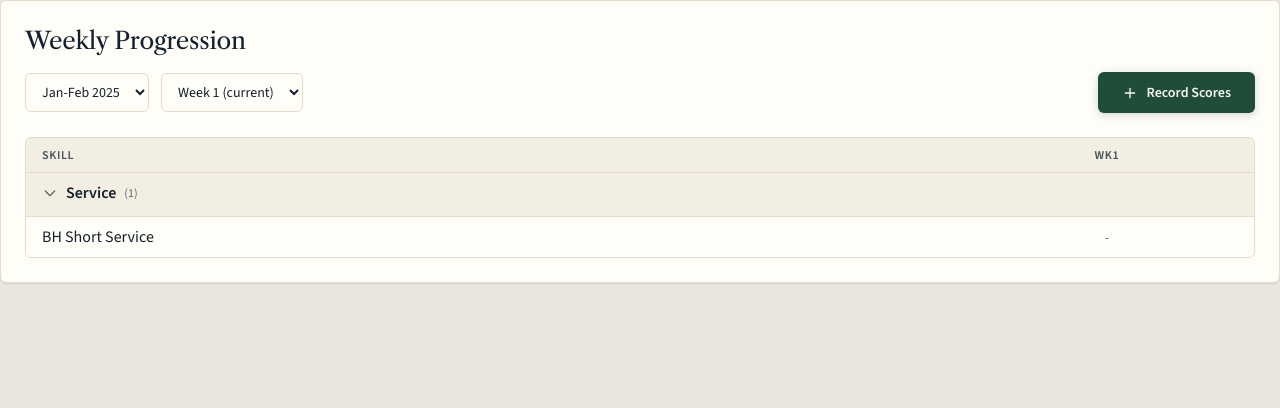
Test: SkillProgressionTracker › navigates back to heatmap when cancel is clicked in recording view
The width and height of the screenshot is (1280, 408).
Go to recording
Click the button with test id "record-scores-button": (1177, 93) left=1098, top=72, right=1255, bottom=113
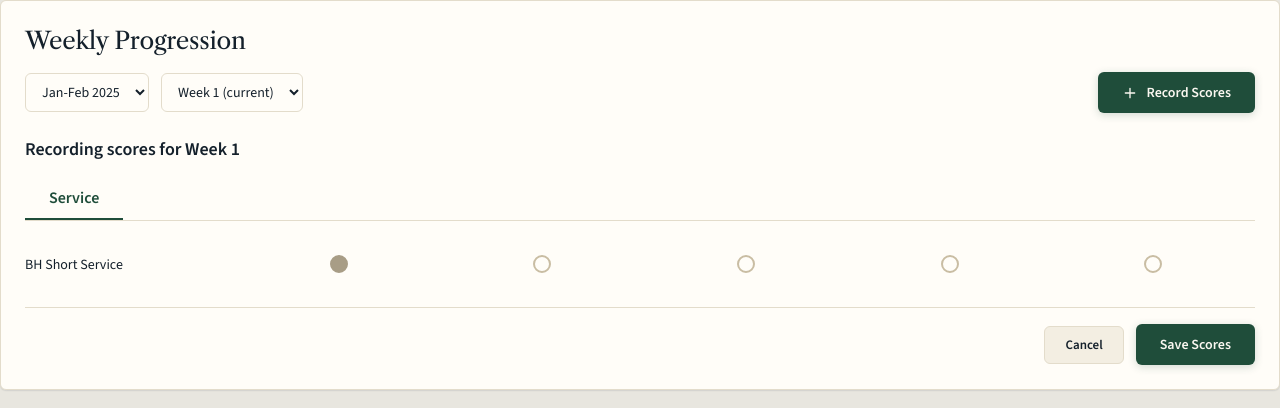
Now the element with test id "recording-view" is shown, box left=25, top=137, right=1255, bottom=365
Click the button with test id "cancel-recording-button": (1084, 345) left=1044, top=326, right=1124, bottom=364
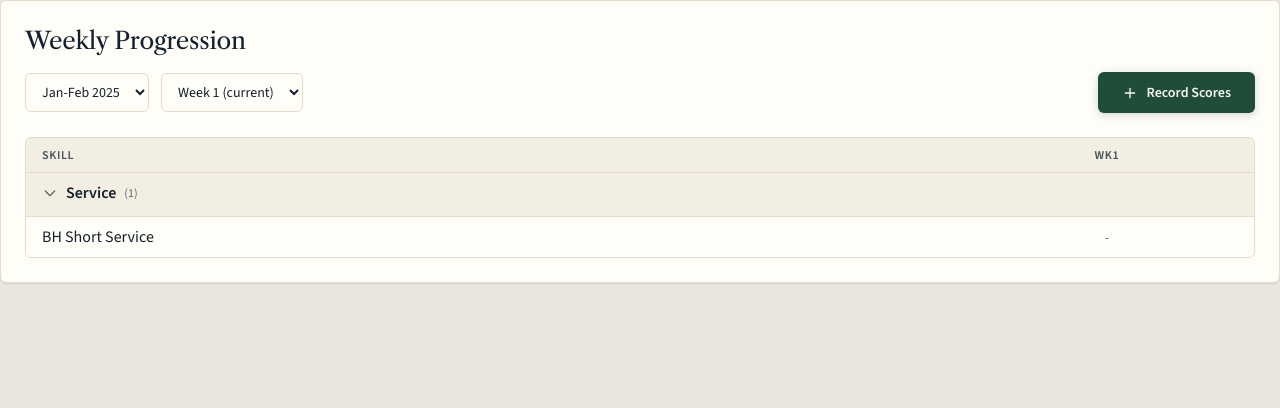
Now the element with test id "heatmap-view" is shown, box left=25, top=137, right=1255, bottom=258
